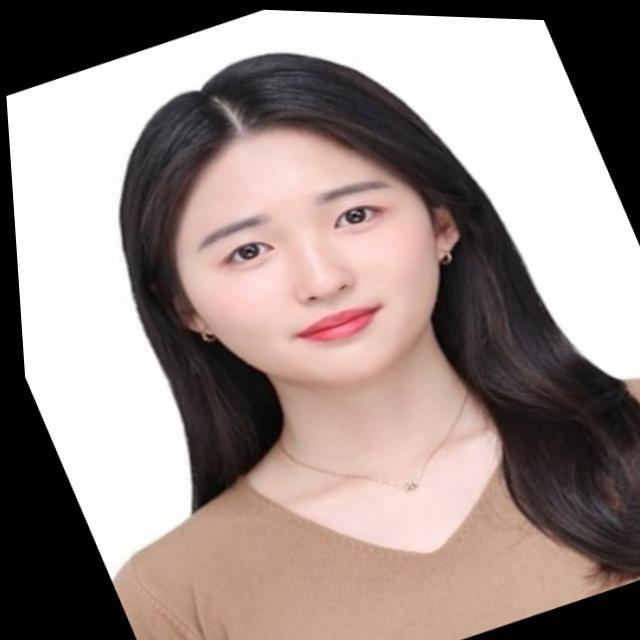Nonhelmet: (110, 35, 480, 388)
